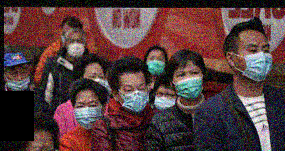mask_weared_incorrect: (3, 65, 29, 92)
with_mask: (232, 41, 272, 81), (116, 79, 149, 114), (170, 66, 203, 100), (72, 97, 103, 130), (152, 86, 176, 111), (143, 52, 165, 75), (63, 36, 86, 57)
